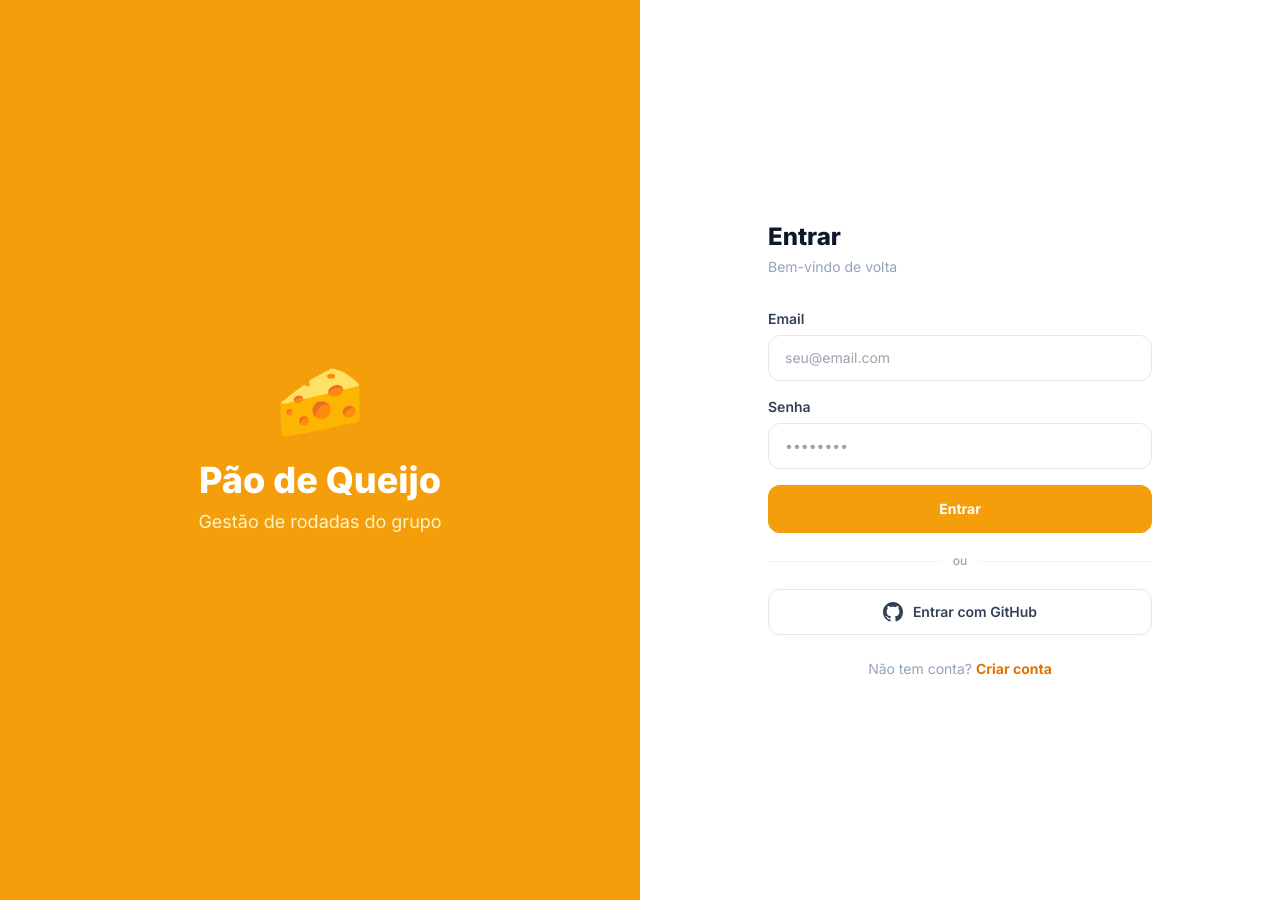
Login › exibe mensagem de erro quando login falha
The image size is (1280, 900).
In the field labelled "Email": {"x": 960, "y": 358} [768,335,1152,381], type "a@a.com"
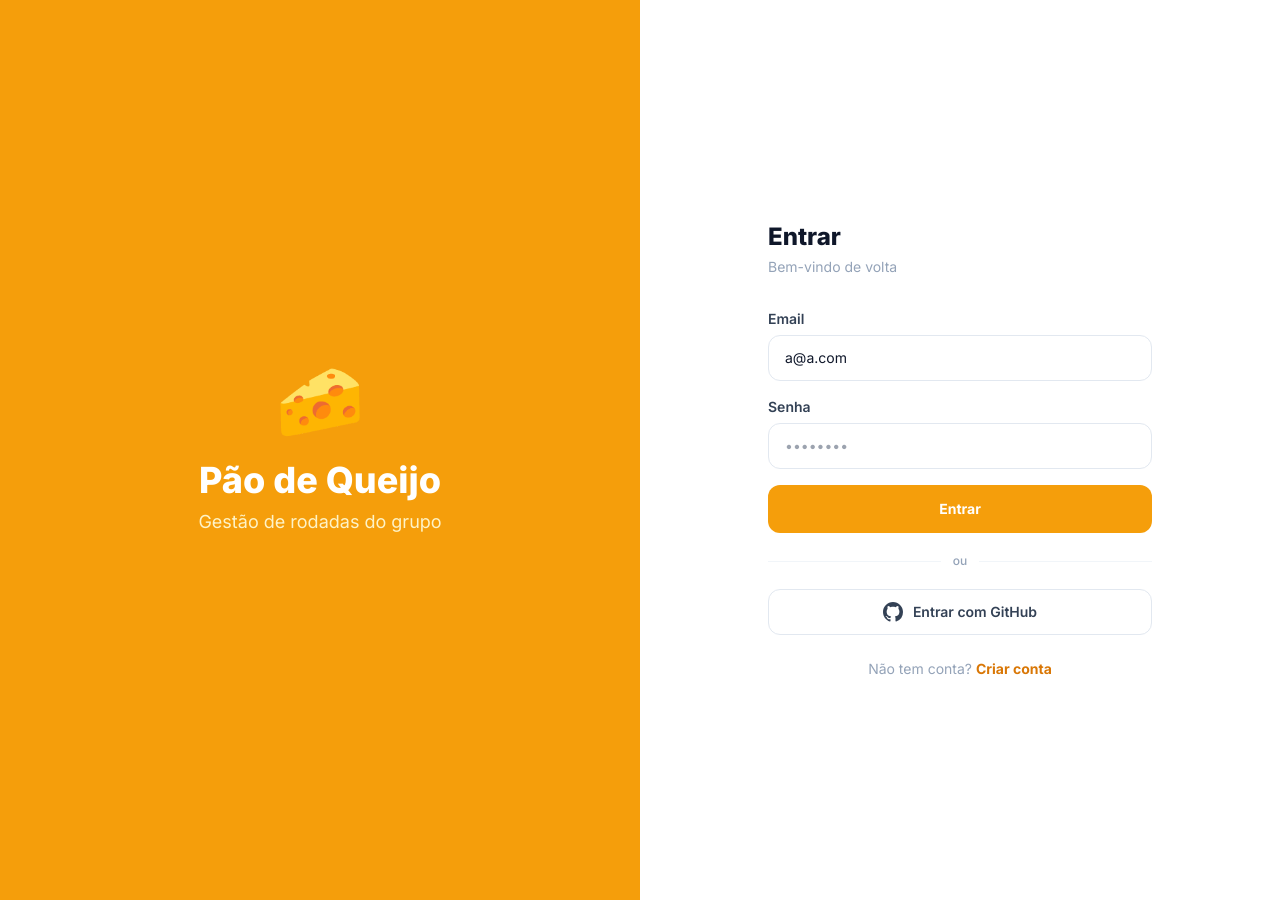
In the password field labelled "Senha": {"x": 960, "y": 446} [768,423,1152,469], type "wrong"
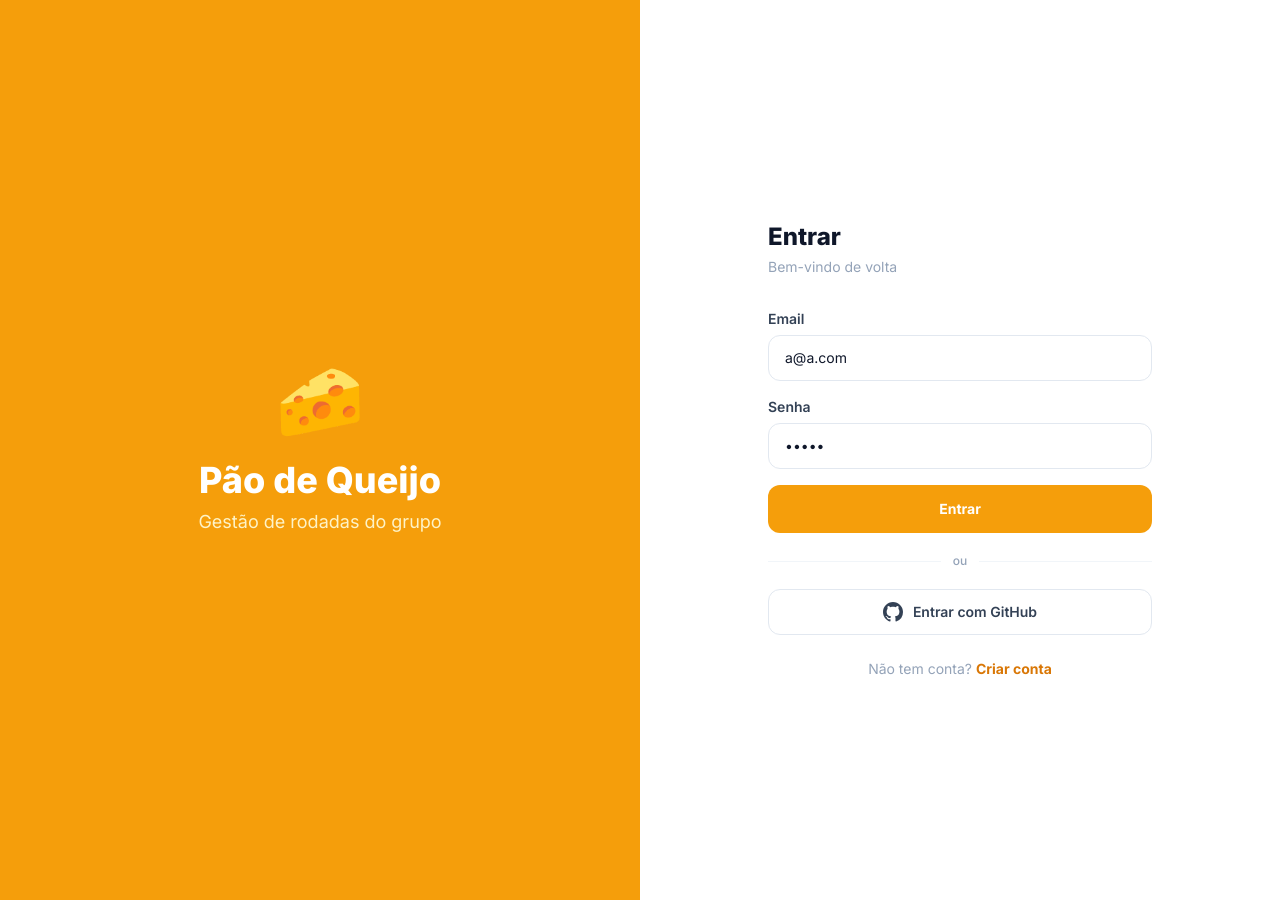
Click the button "Entrar": {"x": 960, "y": 509} [768,485,1152,533]
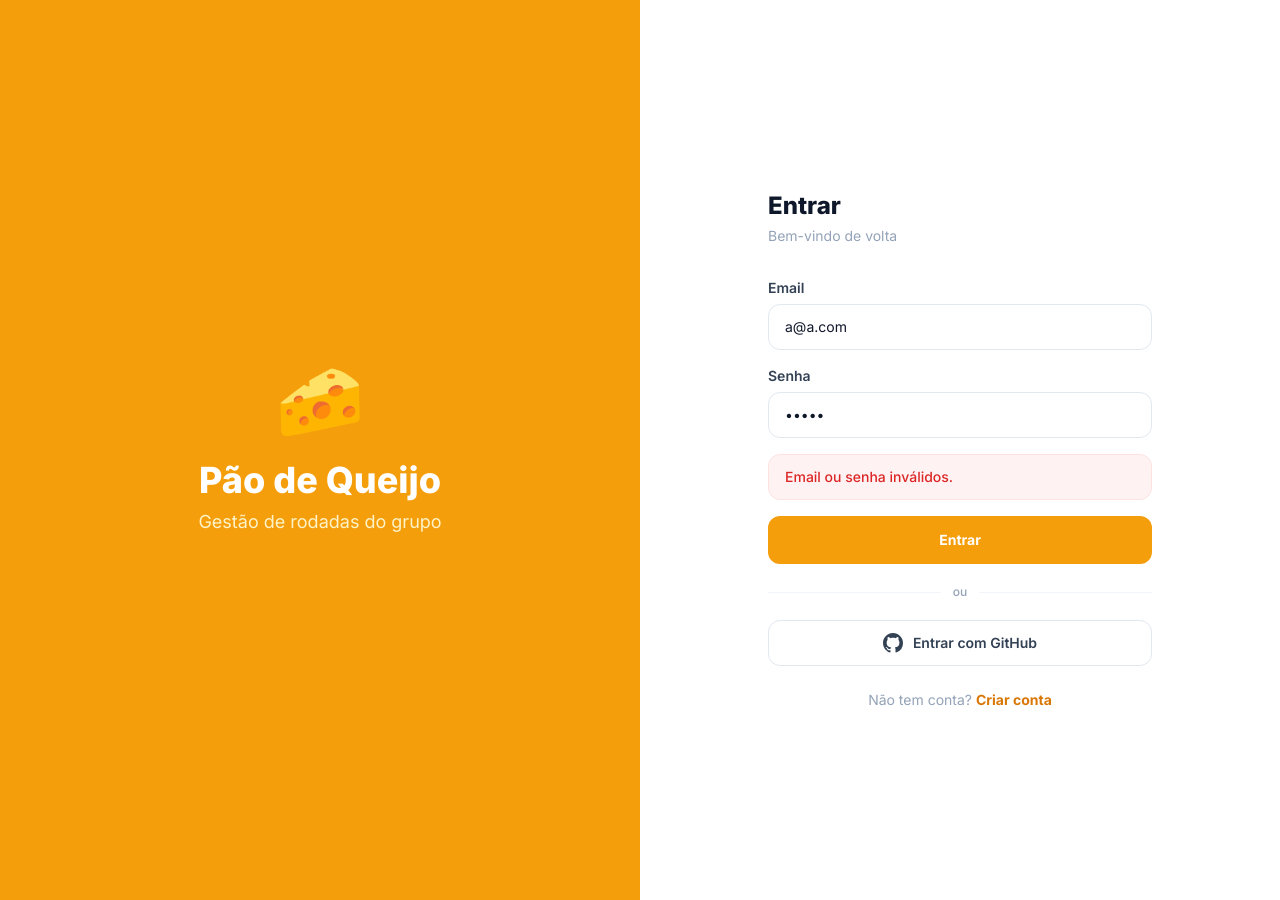
Now the text "Email ou senha inválidos." is shown, box [785,468,953,485]
